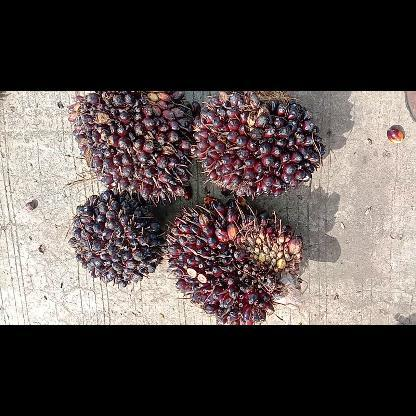TBS mentah: (162, 193, 306, 323), (65, 90, 204, 202), (192, 92, 326, 198), (68, 192, 166, 286)
